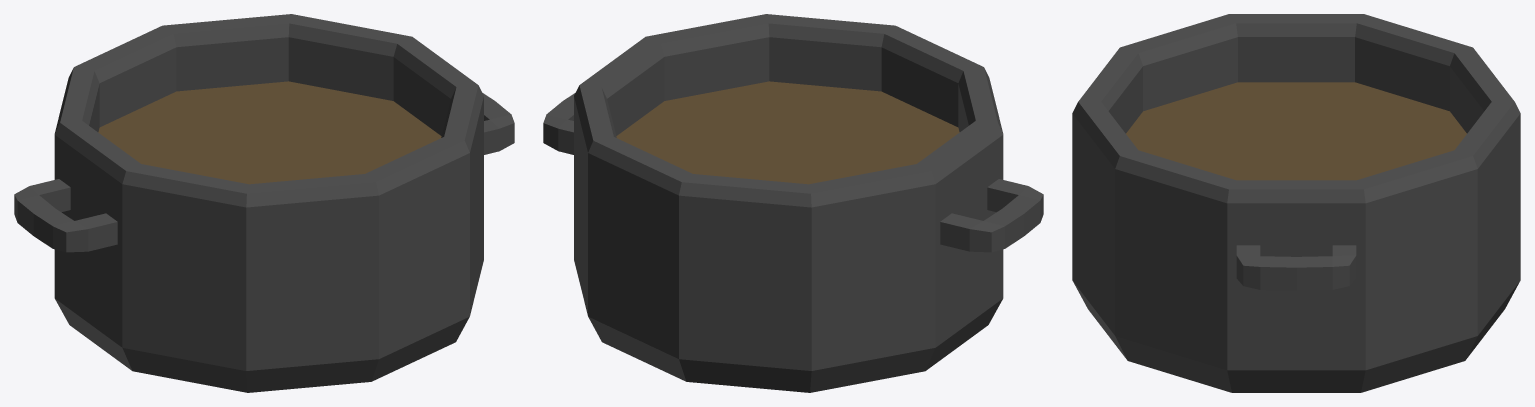
The model's file is CookingPot_Soup.glb.
The picture shows the model from 3 angles, left to right: view 1: azimuth 30°, elevation 25°; view 2: azimuth 150°, elevation 25°; view 3: azimuth 270°, elevation 25°; orthographic projection. The views are drawn at different scales.
Visible parts, largest first — view 1: Grey, Brown; view 2: Grey, Brown; view 3: Grey, Brown.
Part boxes in pixels (x1,y1,x2,y2): Grey: (14,14,514,392); Brown: (98,81,441,184); Grey: (543,14,1043,392); Brown: (616,81,959,184); Grey: (1072,14,1520,392); Brown: (1126,82,1466,180).
Bounding box in the file's own units: 2.42 × 1.08 × 1.99.
